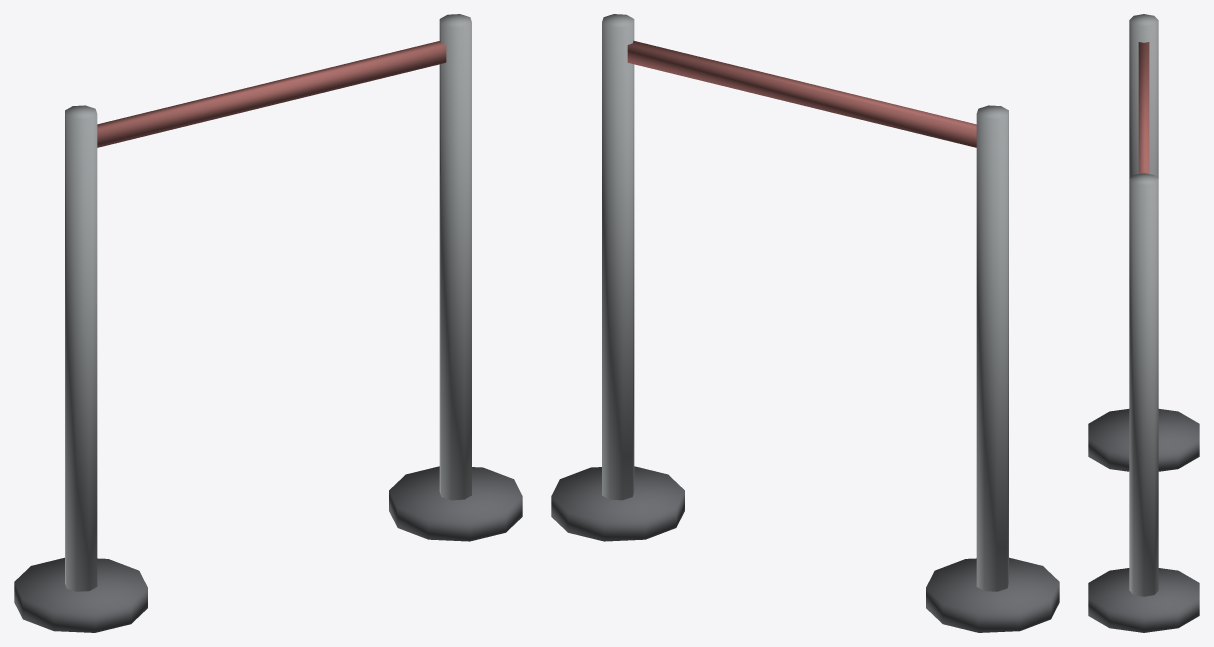
The model's file is queue_stanchion__tall.glb.
3 views of the same model, side by side, from view 1: azimuth 30°, elevation 25°; view 2: azimuth 150°, elevation 25°; view 3: azimuth 270°, elevation 25° (orthographic). The views are drawn at different scales.
Visible parts, largest first — view 1: world; view 2: world; view 3: world.
Part boxes in pixels (x1,y1,x2,y2): world: (14, 14, 522, 632); world: (551, 14, 1059, 632); world: (1088, 14, 1199, 632).
Size of the model in its own units: 1.18 by 1.13 by 0.2663.
